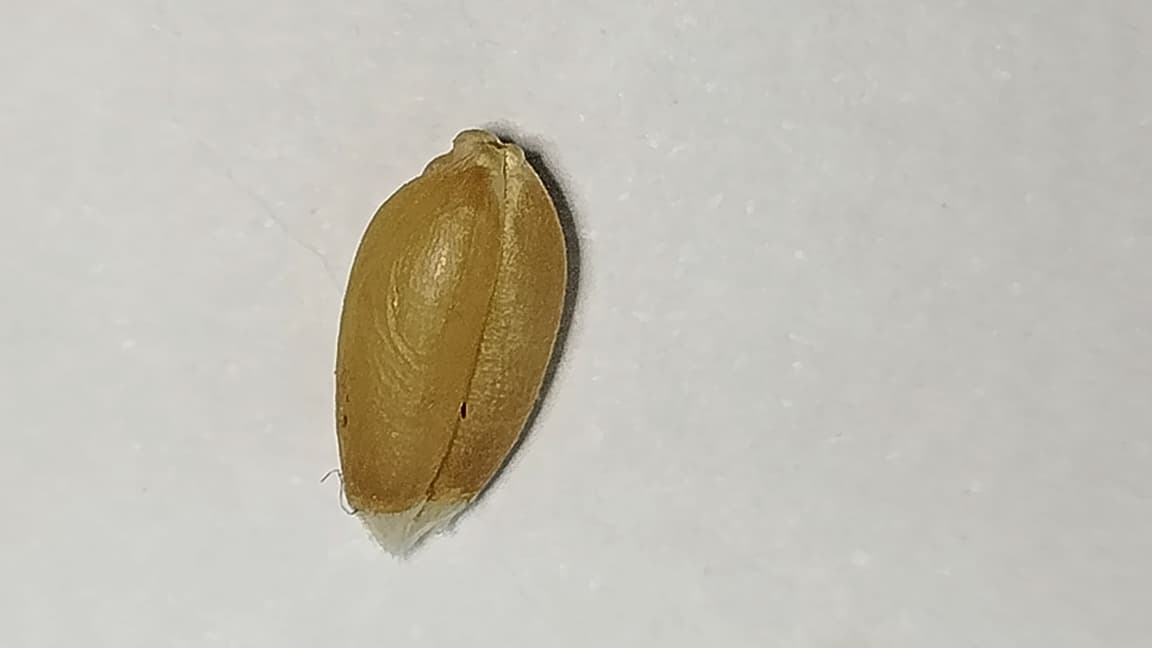healthy: (337, 131, 565, 534)
